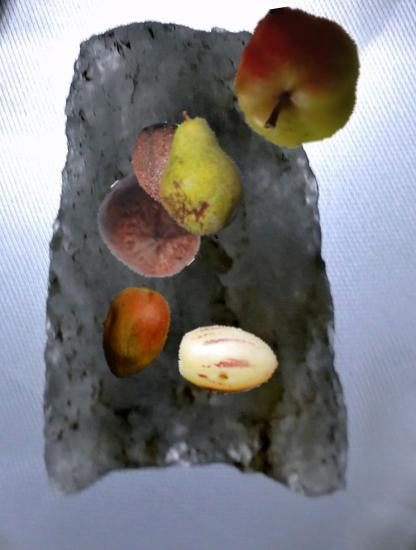Apple: (226, 6, 368, 148)
Cocos: (123, 120, 212, 209)
Nut: (95, 170, 206, 281)
Papaya: (84, 283, 184, 383)
Pear: (134, 109, 267, 242)
Pepino: (176, 310, 278, 412)
